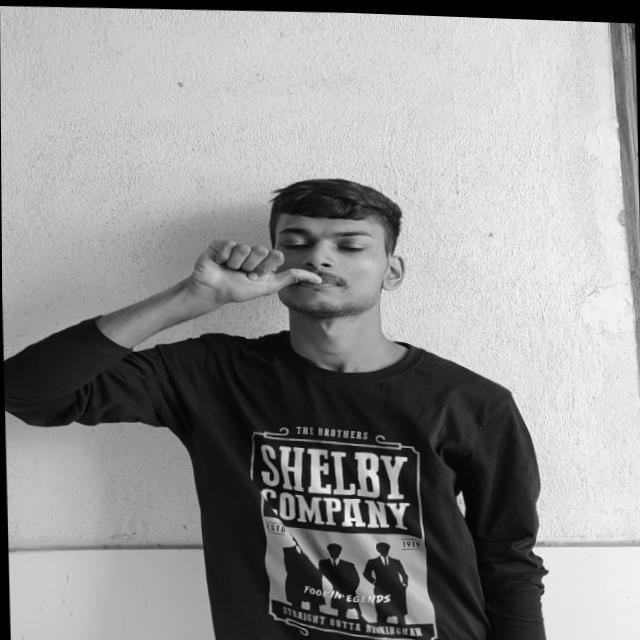Drink: (187, 236, 328, 305)
